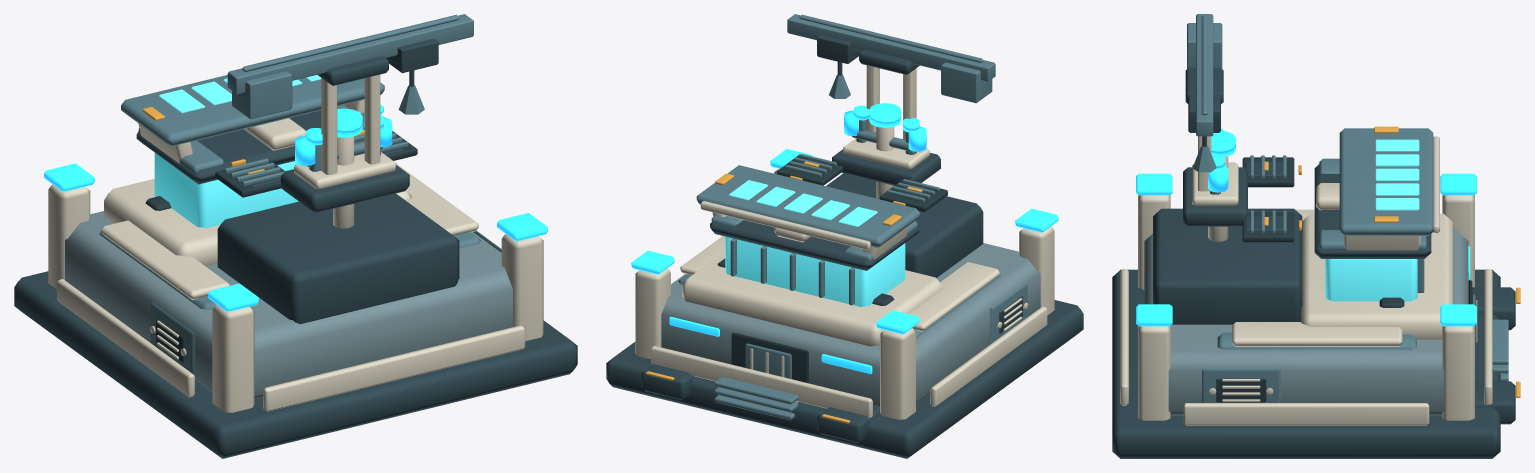
File: command-yard.glb
3 renders of one model, left to right at view 1: azimuth 30°, elevation 25°; view 2: azimuth 150°, elevation 25°; view 3: azimuth 270°, elevation 25°, orthographic. The views are drawn at different scales.
Visible parts, largest first — view 1: Foundation platform, Forward command deck, Chamfered superstructure, Side buttress spine, Aegis construction jib, Recessed glass control room, Pylon signal cap, Buttress inset vent; view 2: Forward command deck, Foundation platform, Chamfered superstructure, Side buttress spine, Recessed glass control room, Aegis construction jib, Pylon signal cap, Buttress inset vent, Ramp hazard strip; view 3: Foundation platform, Forward command deck, Chamfered superstructure, Side buttress spine, Recessed glass control room, Pylon signal cap, Aegis construction jib, Buttress inset vent, Ramp hazard strip.
Boxes of the visible parts, <box> form: Foundation platform: <box>14,56,577,458</box>; Forward command deck: <box>48,74,543,412</box>; Chamfered superstructure: <box>65,211,512,399</box>; Side buttress spine: <box>99,75,501,374</box>; Aegis construction jib: <box>227,14,473,119</box>; Recessed glass control room: <box>154,75,321,227</box>; Pylon signal cap: <box>44,104,547,311</box>; Buttress inset vent: <box>145,131,417,362</box>; Forward command deck: <box>635,65,1054,419</box>; Foundation platform: <box>606,49,1083,458</box>; Chamfered superstructure: <box>661,243,1040,406</box>; Side buttress spine: <box>678,119,1027,420</box>; Recessed glass control room: <box>725,180,905,306</box>; Aegis construction jib: <box>787,14,995,103</box>; Pylon signal cap: <box>631,103,1058,373</box>; Buttress inset vent: <box>717,154,1022,383</box>; Ramp hazard strip: <box>646,161,922,423</box>; Foundation platform: <box>1112,67,1515,458</box>; Forward command deck: <box>1120,136,1492,425</box>; Chamfered superstructure: <box>1144,227,1468,415</box>; Side buttress spine: <box>1202,128,1508,402</box>; Recessed glass control room: <box>1325,139,1419,301</box>; Pylon signal cap: <box>1136,128,1476,326</box>; Aegis construction jib: <box>1187,14,1222,172</box>; Buttress inset vent: <box>1216,157,1472,402</box>; Ramp hazard strip: <box>1264,126,1520,397</box>.
Bounding box in the file's own units: 2.86 × 2.58 × 3.01.
